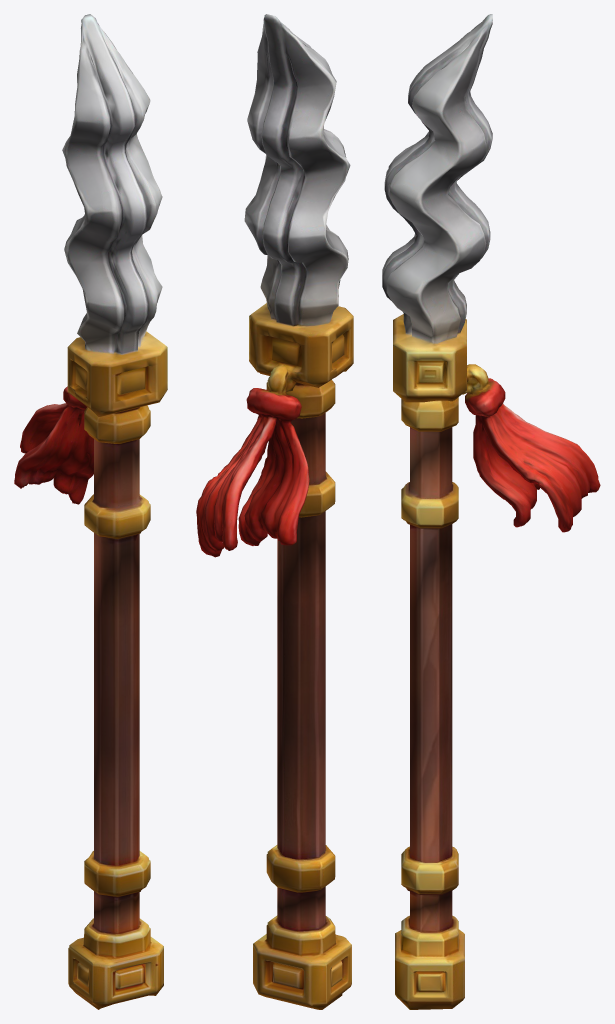
The model's file is spear.glb.
3 renders of one model, left to right at view 1: azimuth 30°, elevation 25°; view 2: azimuth 150°, elevation 25°; view 3: azimuth 270°, elevation 25°, orthographic. The views are drawn at different scales.
Visible parts, largest first — view 1: tripo_node_b049c0b8-440d-4dac-b6ed-da7e02f8672c; view 2: tripo_node_b049c0b8-440d-4dac-b6ed-da7e02f8672c; view 3: tripo_node_b049c0b8-440d-4dac-b6ed-da7e02f8672c.
Boxes of the visible parts, x1=… form: tripo_node_b049c0b8-440d-4dac-b6ed-da7e02f8672c: x1=14, y1=14, x2=167, y2=1009; tripo_node_b049c0b8-440d-4dac-b6ed-da7e02f8672c: x1=196, y1=14, x2=353, y2=1009; tripo_node_b049c0b8-440d-4dac-b6ed-da7e02f8672c: x1=382, y1=14, x2=600, y2=1009.
Size of the model in its own units: 0.0959 by 1 by 0.2016.
Materials: 1 (1 with a texture image).
